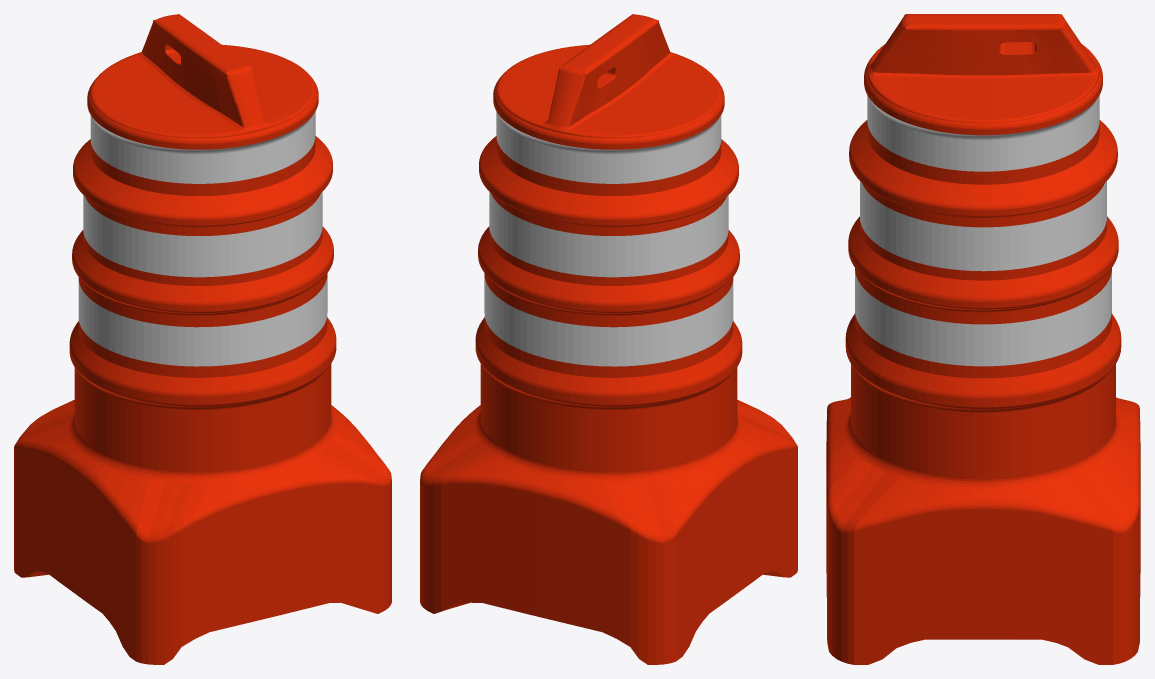
The model's file is SuperCone.glb.
The picture shows the model from 3 angles, left to right: view 1: azimuth 30°, elevation 25°; view 2: azimuth 150°, elevation 25°; view 3: azimuth 270°, elevation 25°; orthographic projection. The views are drawn at different scales.
Parts seen in each view (by area): view 1: Circle; view 2: Circle; view 3: Circle.
Part boxes in pixels (left/top/right/bottom): Circle: left=14, top=14, right=391, bottom=664; Circle: left=420, top=14, right=797, bottom=664; Circle: left=826, top=14, right=1140, bottom=664.
Size of the model in its own units: 1.83 by 3.71 by 1.82.
